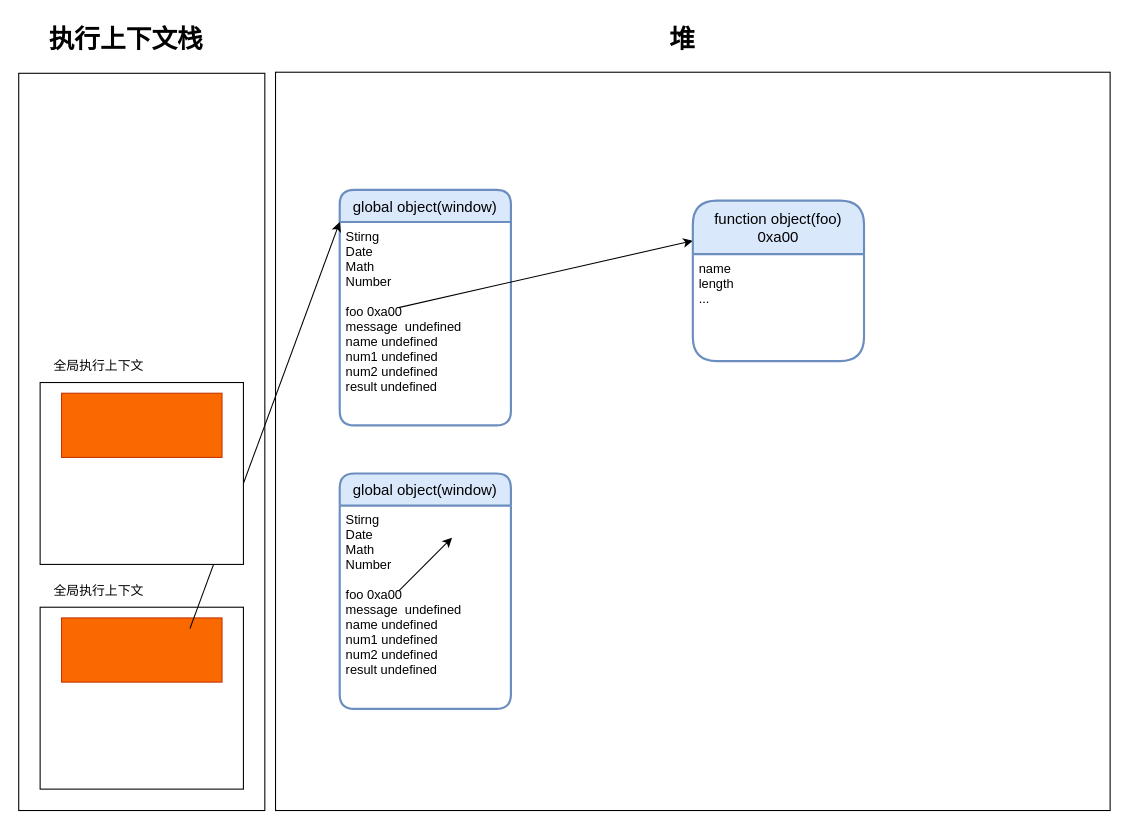
This 1129x829 diagram has some shape labels left out. The centre of each missing label's shape, as x and y in pixels:
"VO AO" belongs at (x=141, y=424).
"VO GO scope chain this" belongs at (x=141, y=649).
